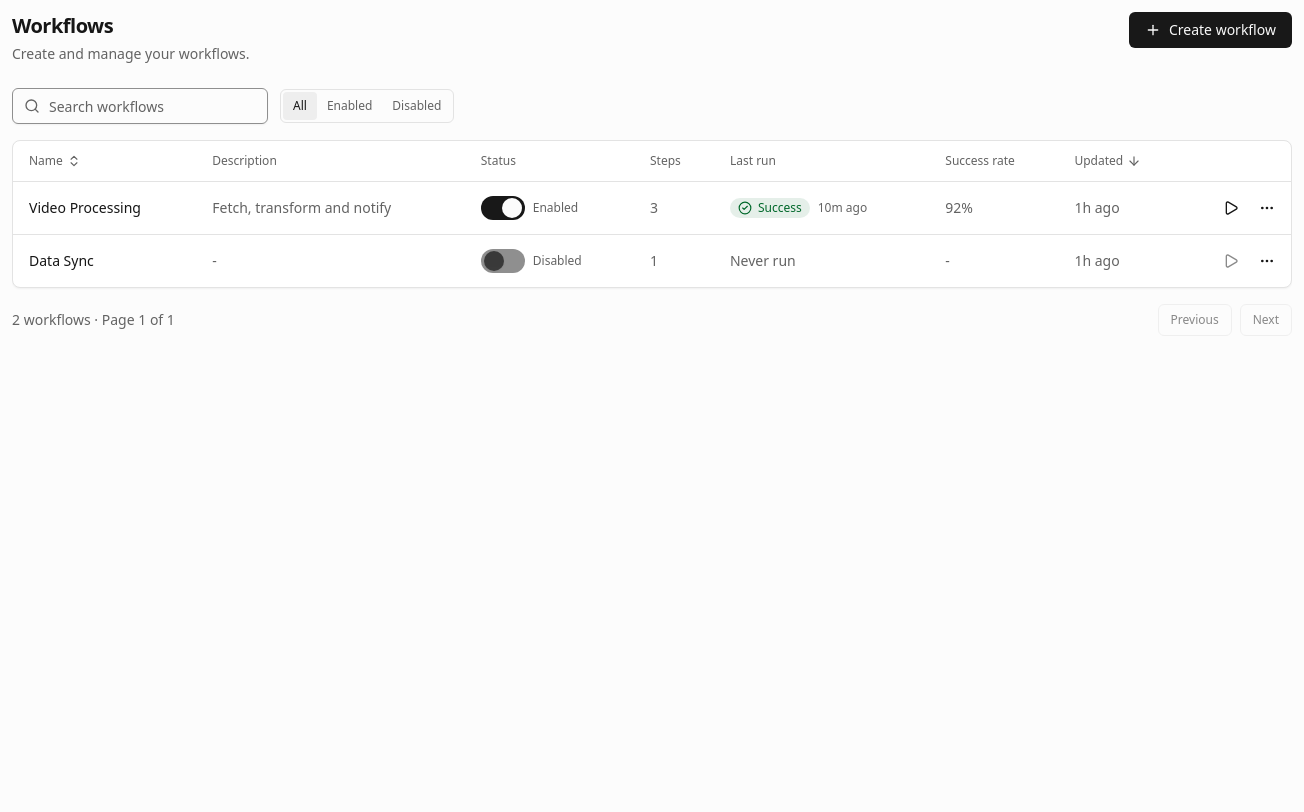
it: WorkflowsPage actions › starts a run with an idempotency key and confirms with a link to the execution
Click the button named "Run Video Processing" at x=1231, y=208, box [1215,192,1247,224]
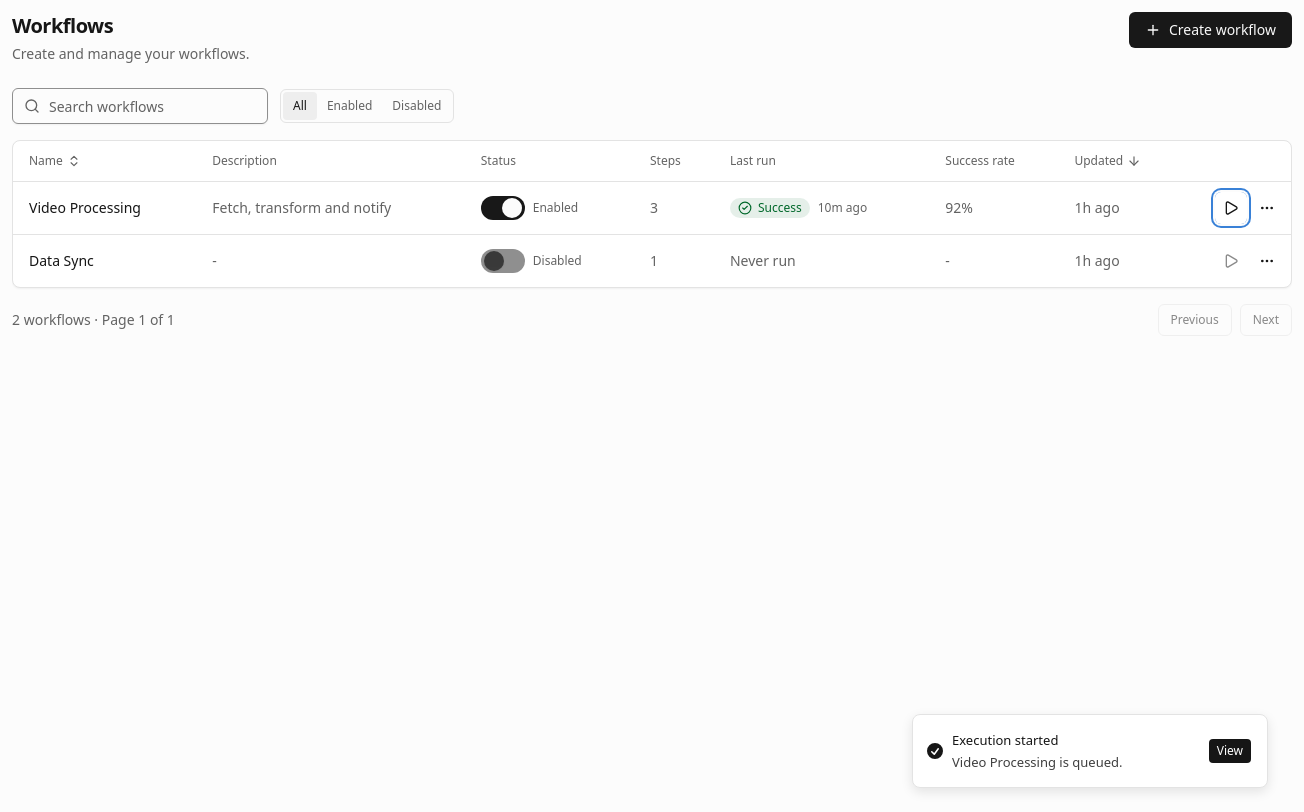
Expected: the text "Execution started" is shown, [952,731,1058,749]
Expected: the button "View" is shown, [1209,739,1251,763]
